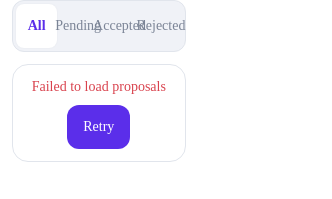
Scenario: GoalProposalsTab › handles error state and allows retry
The image size is (332, 199).
Expected: the element with test id "proposals-error-card" is shown, x1=12 y1=64 x2=186 y2=162
Click the button with test id "retry-proposals-button" at (99, 127), box x1=67 y1=105 x2=130 y2=149
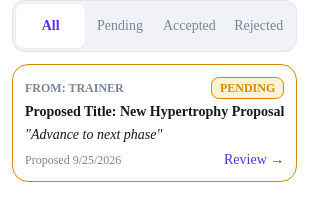
Now the button with test id "proposal-item-prop-pending-1" is shown, box x1=12 y1=64 x2=297 y2=182
